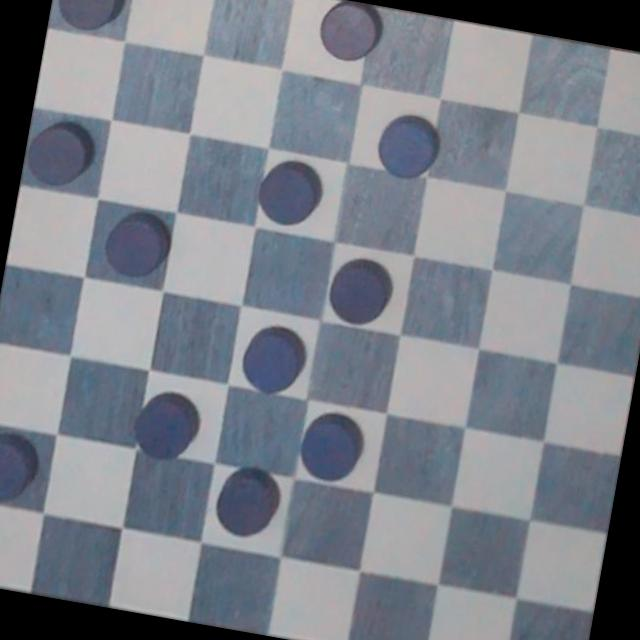BOARD: (0, 0, 640, 640)
black: (92, 201, 177, 295), (320, 242, 408, 332), (19, 110, 101, 196), (207, 459, 287, 544), (245, 154, 332, 230), (130, 378, 206, 463), (232, 319, 312, 399), (296, 406, 374, 488), (374, 106, 449, 186), (314, 0, 386, 70), (0, 426, 48, 510), (47, 0, 128, 36)
